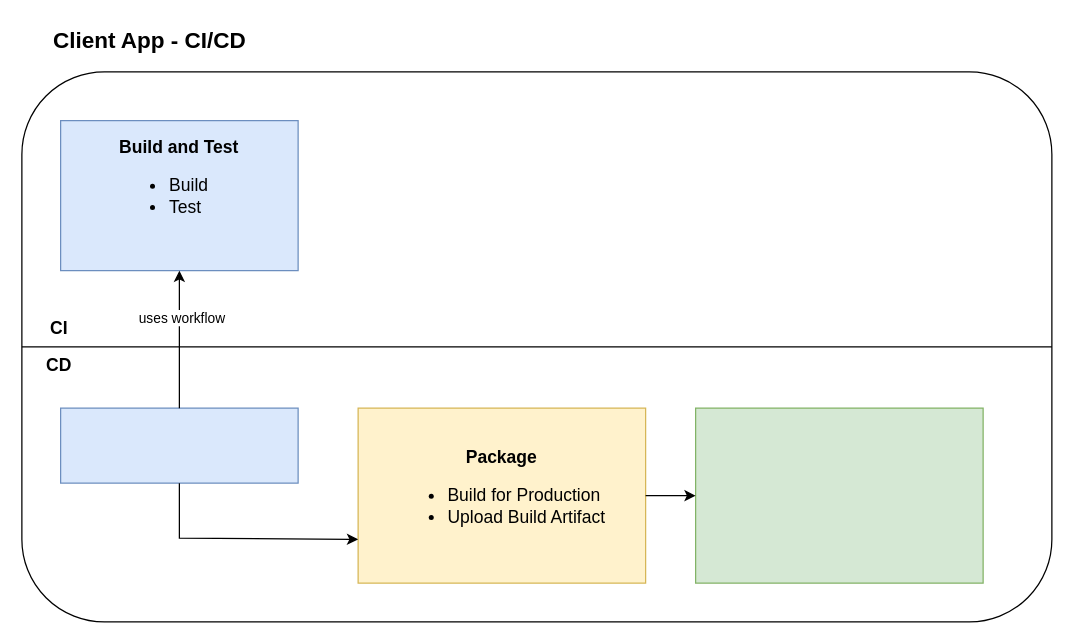
Image size: 1075x644. Some labels were removed from this diagram. Here are the shapes that lost their labels. From the top down, the box of each, then its label:
(59, 407, 298, 483): CI / Build and Test
(694, 407, 983, 583): Deploy Download Build Artifact Azure login Upload to Blob Storage
